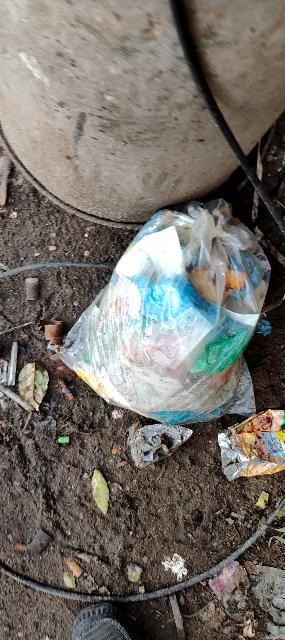polythene: (52, 198, 280, 426)
